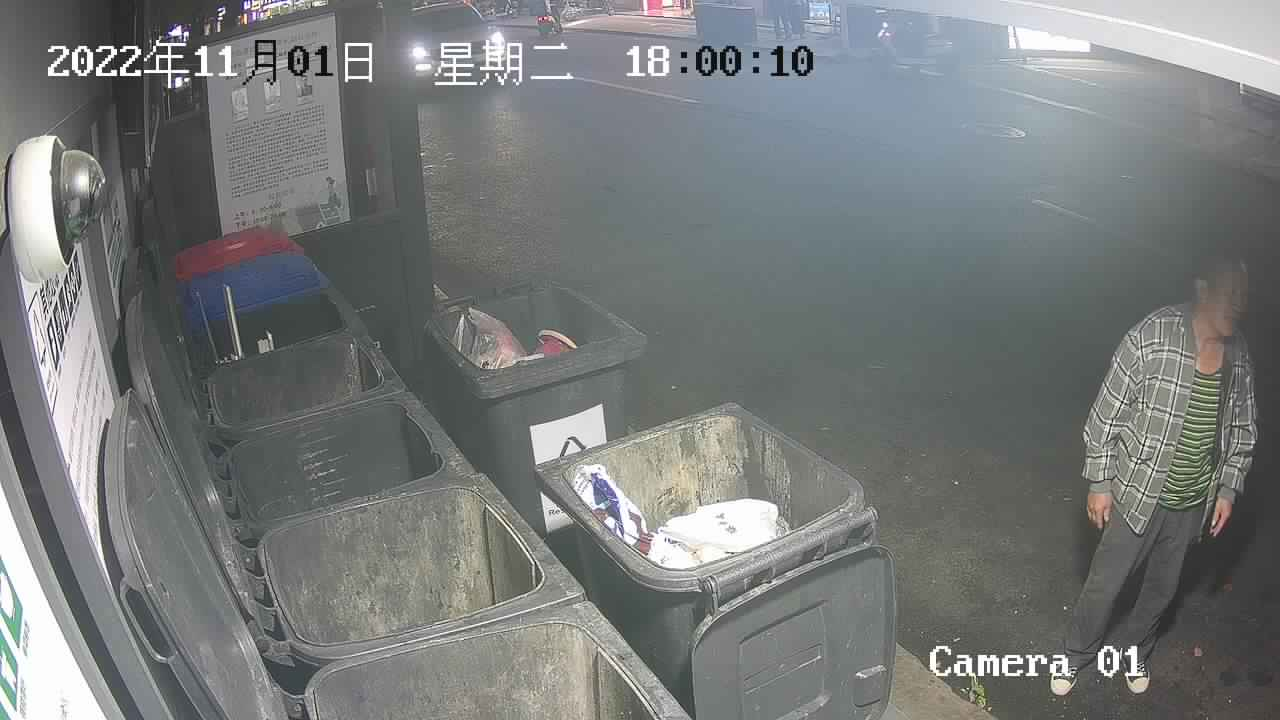person: (1048, 251, 1262, 699)
